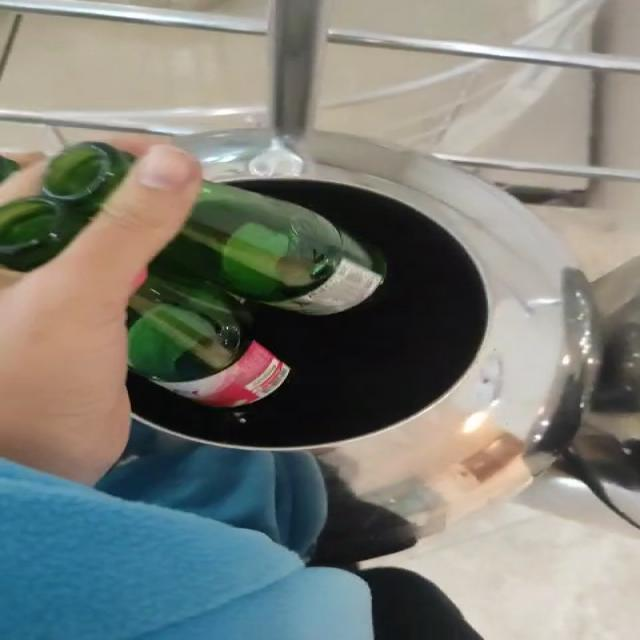glass: (128, 181, 385, 403), (0, 142, 132, 271)
